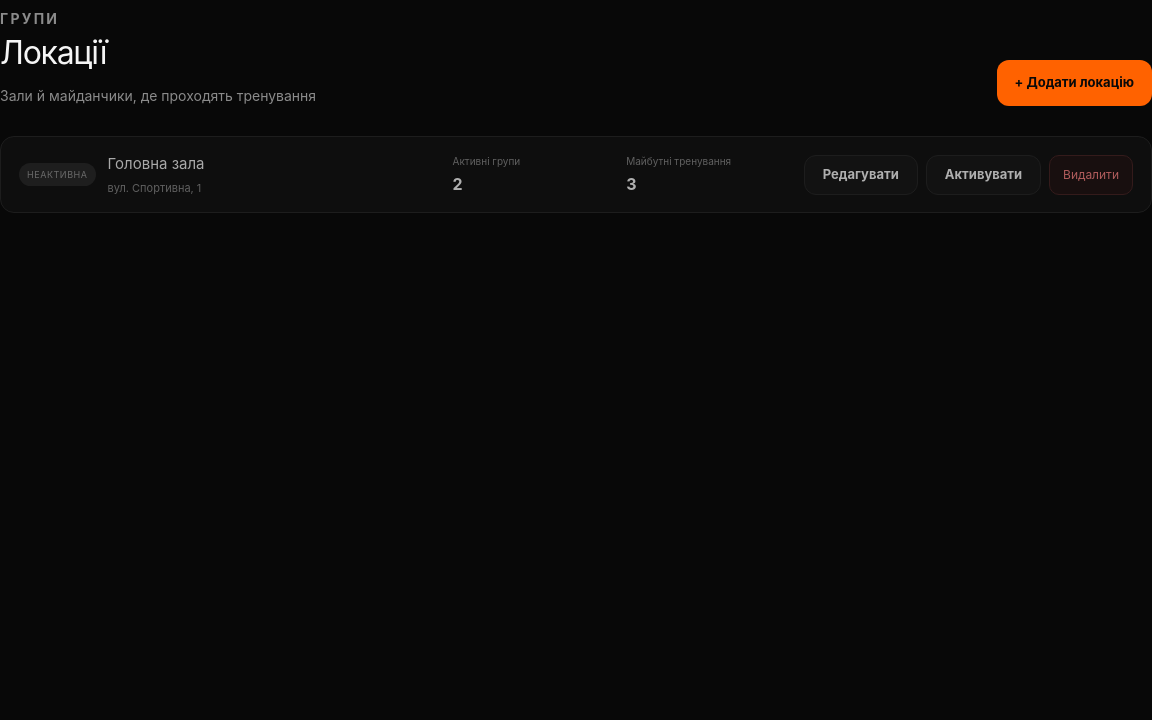
Test: LocationManager › allows an inactive location to be activated
Click the button "Активувати".
click(983, 174)  # box [926,154,1041,194]
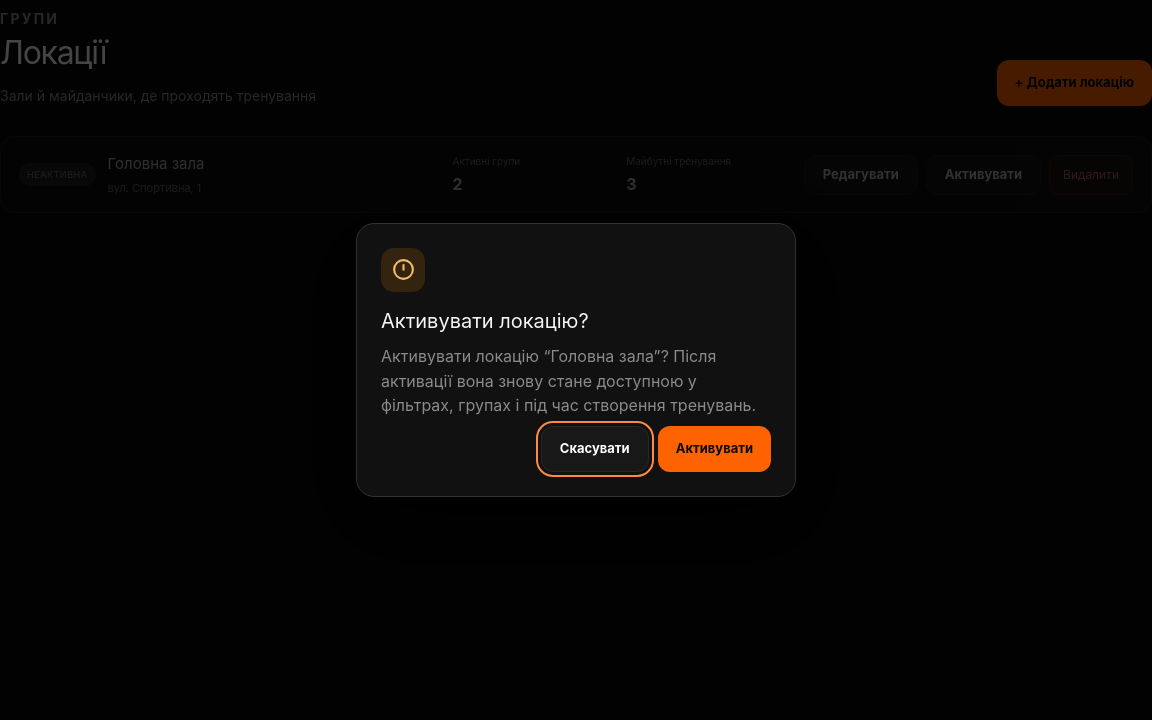
Result: the dialog shows "Після активації вона знову стане доступною" at [381,346,756,415]
Click the button "Активувати".
click(714, 449)  # box [658,426,771,472]
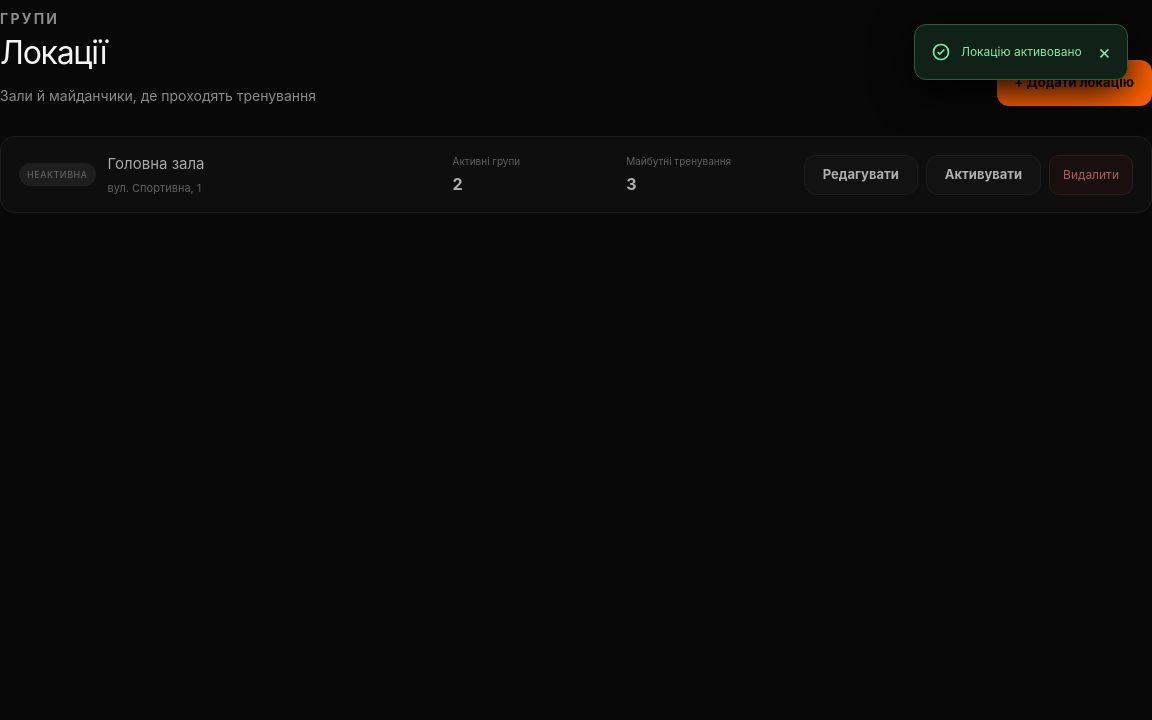
Result: the message shows "Локацію активовано" at [961,44,1082,59]
